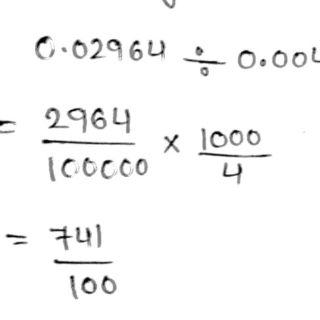.: (59, 44, 68, 53), (259, 57, 266, 67)
0: (33, 33, 56, 62), (60, 155, 81, 182), (236, 48, 256, 70), (71, 38, 87, 60), (81, 275, 97, 297)
1: (46, 154, 59, 182), (198, 125, 210, 153), (67, 272, 78, 301), (94, 221, 104, 249)
2: (42, 104, 69, 130), (89, 35, 106, 60)
4: (221, 159, 244, 188), (110, 107, 132, 135), (147, 38, 168, 64), (74, 224, 93, 252)
6: (89, 104, 107, 132), (127, 36, 144, 64)
7: (49, 224, 72, 253)
9: (67, 105, 89, 134), (106, 34, 124, 63)
